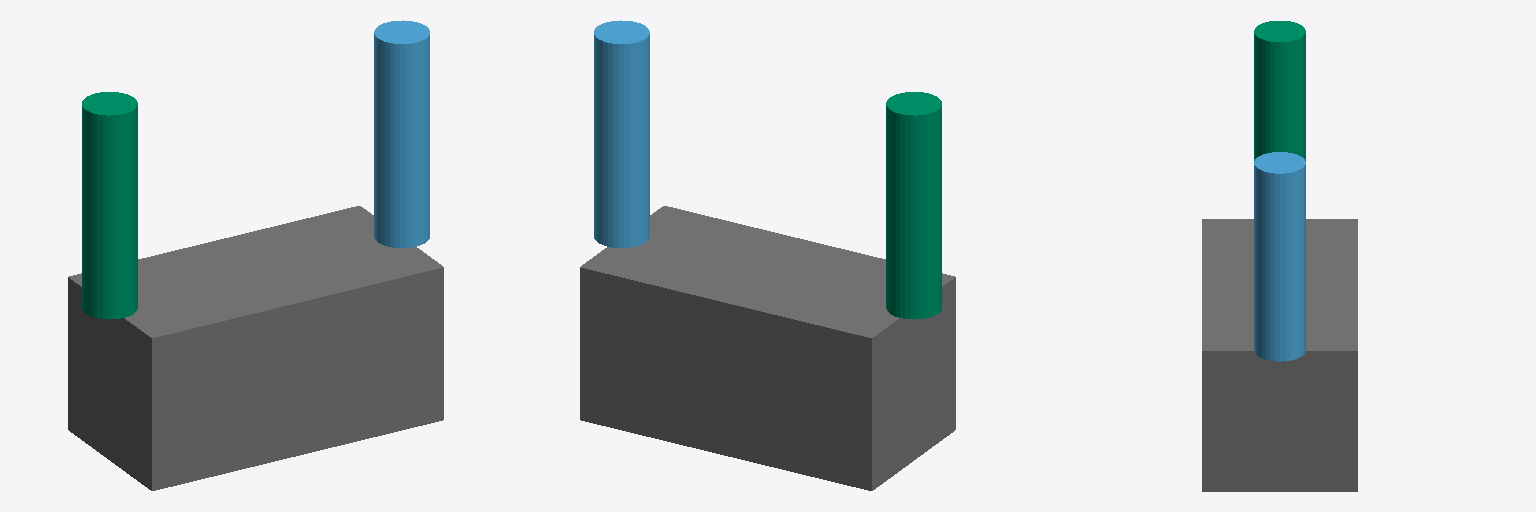
URDF robot description (gripper):
<?xml version="1.0" ?>
<robot name="gripper">
  <link name="baseLink">
    <inertial>
      <origin rpy="0 0 0" xyz="0 0 0"/>
       <mass value="0.001"/>
       <inertia ixx="0.01" ixy="0" ixz="0" iyy="0.01" iyz="0" izz="0.01"/>
    </inertial>
    <visual>
      <origin rpy="0 0 0" xyz="0 0.0 0.075"/>
      <geometry>
			<box size="0.3 0.15 0.15"/>
      </geometry>
       <material name="grey">
        <color rgba="0.5 0.5 0.5 1.0"/>
      </material>
    </visual>
    <collision>
      <origin rpy="0 0 0" xyz="0 0.0 0.075"/>
      <geometry>
			<box size="0.3 0.15 0.15"/>
      </geometry>
    </collision>
  </link>
  <link name="leftfinger">
      <contact>
      <friction_anchor/>
      <stiffness value="30000.0"/>
      <damping value="1000.0"/>
      <spinning_friction value="0.75"/>
      <lateral_friction value="1.0"/>
    </contact>
  	<inertial>
      <origin rpy="0 0 0" xyz="0 0 0"/>
       <mass value="0.1"/>
       <inertia ixx="0.1" ixy="0" ixz="0" iyy="0.1" iyz="0" izz="0.1"/>
    </inertial>
    <visual>
      <origin rpy="0 0 0" xyz="0.0 0.0 0.1"/>
      <geometry>
        <cylinder radius="0.025" length="0.2"/>
      </geometry>
    </visual>
    <collision>
      <origin rpy="0 0 0" xyz="0.0 0 0.1"/>
      <geometry>
        <cylinder radius="0.025" length="0.2"/>
      </geometry>
      <material name="white"/>
    </collision>
  </link>
  <link name="rightfinger">
      <contact>
      <friction_anchor/>
      <stiffness value="30000.0"/>
      <damping value="1000.0"/>
      <spinning_friction value="0.75"/>
      <lateral_friction value="1.0"/>
    </contact>
  	<inertial>
      <origin rpy="0 0 0" xyz="0 0 0"/>
       <mass value="0.1"/>
       <inertia ixx="0.1" ixy="0" ixz="0" iyy="0.1" iyz="0" izz="0.1"/>
    </inertial>
      <geometry>
		<box size="0.2 0.05 0.05"/>
      </geometry>
      <material name="white"/>
    <visual>
      <origin rpy="0 0 0" xyz="0.0 0.0 0.1"/>
      <geometry>
        <cylinder radius="0.025" length="0.2"/>
      </geometry>
    </visual>
    <collision>
      <origin rpy="0 0 0" xyz="0.0 0 0.1"/>
      <geometry>
        <cylinder radius="0.025" length="0.2"/>
      </geometry>
      <material name="white"/>
    </collision>
  </link>
  <joint name="finger_joint1" type="prismatic">
    <parent link="baseLink"/>
    <child link="leftfinger"/>
    <origin rpy="0 0 0" xyz="0.15 0 0.15"/>
    <axis xyz="-1 0 0"/>
    <limit effort="200" lower="0.0" upper="0.11" velocity="0.2"/>
  </joint>
  <joint name="finger_joint2" type="prismatic">
    <parent link="baseLink"/>
    <child link="rightfinger"/>
    <origin rpy="0 0 0" xyz="-0.15 0 0.15"/>
    <axis xyz="1 0 0"/>
    <limit effort="200" lower="-0" upper="0.11" velocity="0.2"/>
    <mimic joint="finger_joint1"/>
  </joint>

  <joint name="gripping_trafo" type="fixed">
		<parent link="baseLink"/>
		<child link="tcp"/>
		<origin xyz="0 0.0 0.25" rpy="0 0 0"/>
  </joint>

  <link name="tcp">

  </link>

</robot>

--- Render facts (derived) ---
3 views of the same robot in one strip: view 1: azimuth 30°, elevation 25°; view 2: azimuth 150°, elevation 25°; view 3: azimuth 270°, elevation 25° (orthographic).
Model gripper with 4 links and 3 joints (2 prismatic, 1 fixed), rooted at baseLink, posed every joint at zero.
Links seen in each view (by area): view 1: baseLink, leftfinger, rightfinger; view 2: baseLink, leftfinger, rightfinger; view 3: baseLink, leftfinger, rightfinger.
Boxes of the visible links, x1,y1,x2,y2 form: baseLink: [68, 206, 443, 490]; leftfinger: [374, 20, 429, 247]; rightfinger: [82, 92, 137, 319]; baseLink: [580, 206, 955, 490]; leftfinger: [594, 20, 649, 247]; rightfinger: [886, 92, 941, 319]; baseLink: [1202, 219, 1357, 491]; leftfinger: [1254, 152, 1305, 361]; rightfinger: [1254, 21, 1305, 160].
Size in the robot's own frame: 0.35 by 0.15 by 0.35 metres.
Geometry: primitives only (box / cylinder / sphere), no mesh files.